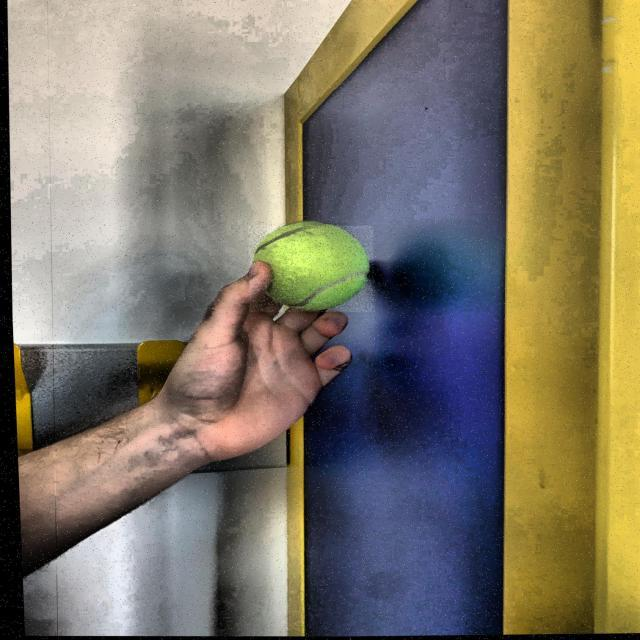tennis-ball: (245, 225, 375, 315)
